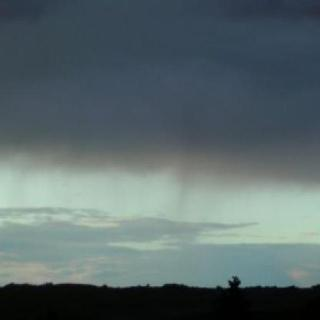Nimbostratus: (0, 0, 319, 278)
